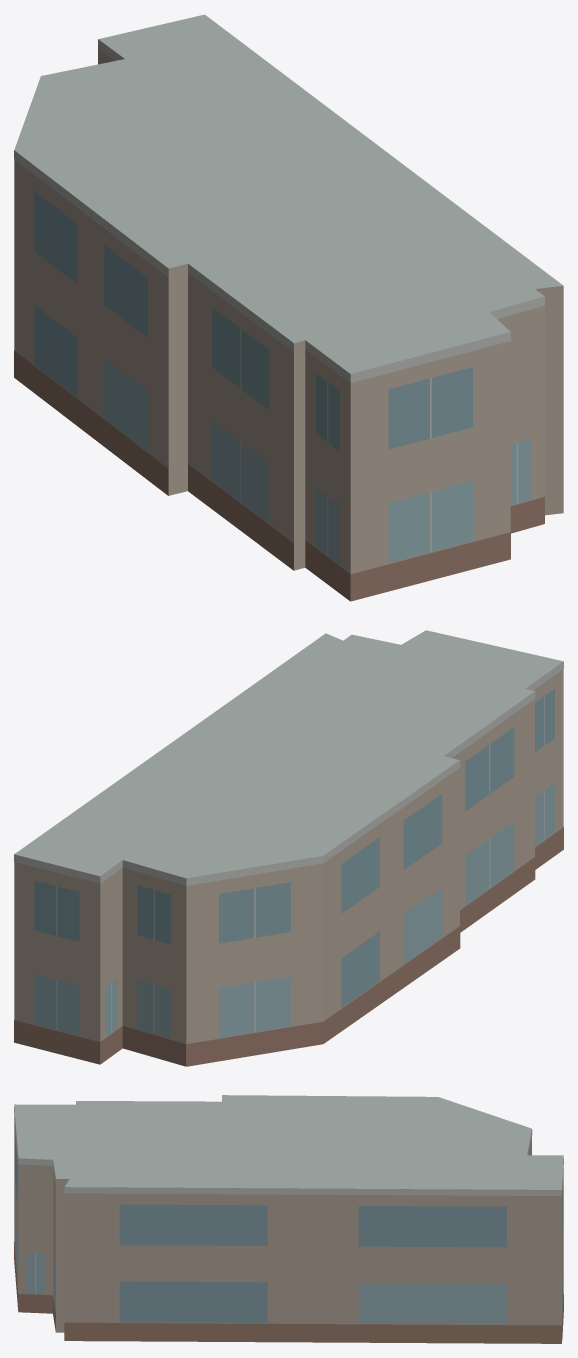
The model's file is survey-upis-32886450.glb.
The picture shows the model from 3 angles, top to bottom: view 1: azimuth 30°, elevation 25°; view 2: azimuth 150°, elevation 25°; view 3: azimuth 270°, elevation 25°; orthographic projection. The views are drawn at different scales.
Visible parts, largest first — view 1: survey-upis-32886450.tmp; view 2: survey-upis-32886450.tmp; view 3: survey-upis-32886450.tmp.
Boxes of the visible parts, <box> form: survey-upis-32886450.tmp: <box>14,14,563,601</box>; survey-upis-32886450.tmp: <box>14,630,563,1066</box>; survey-upis-32886450.tmp: <box>14,1095,563,1343</box>.
Bounding box in the file's own units: 8.08 × 6.1 × 19.76.
